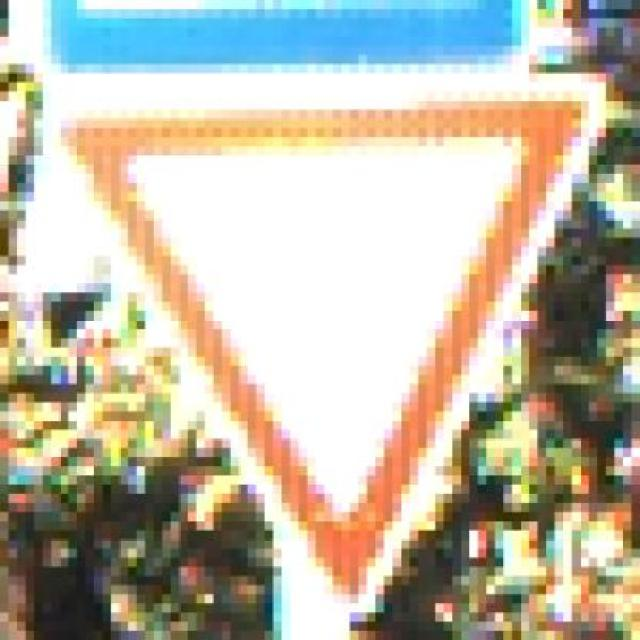Give Way: (17, 91, 632, 631)
